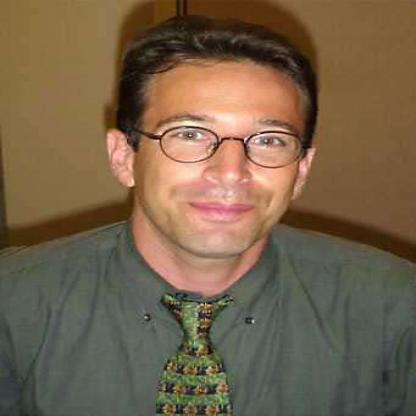face: (135, 27, 309, 260)
